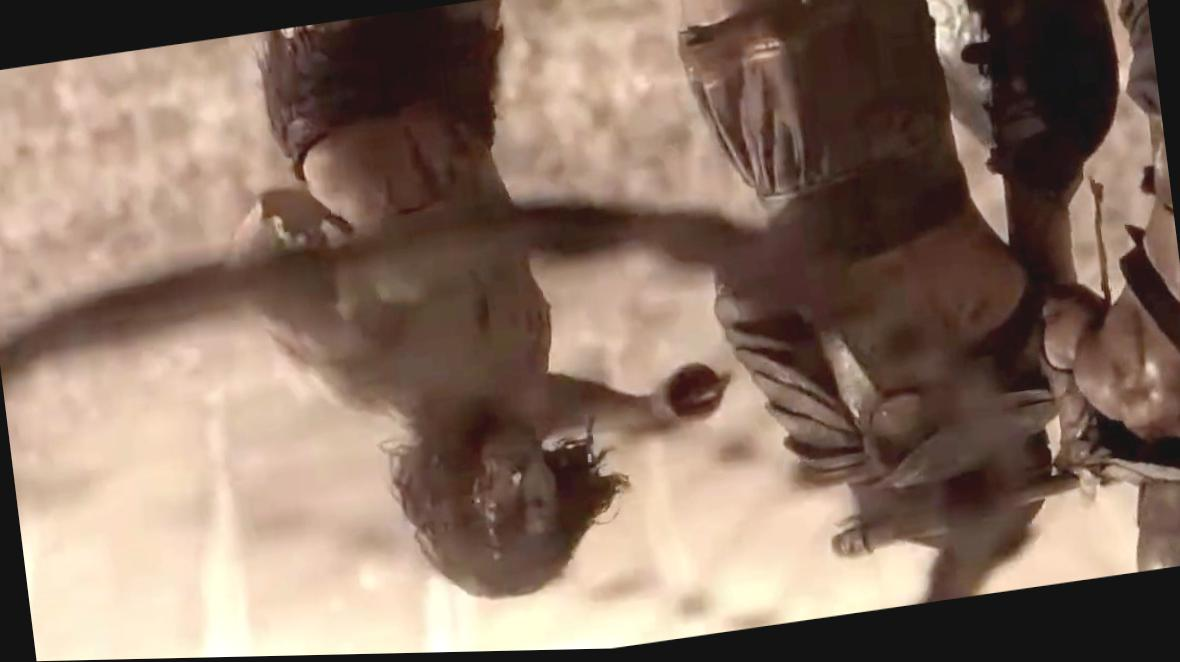Fire: (471, 423, 557, 560)
